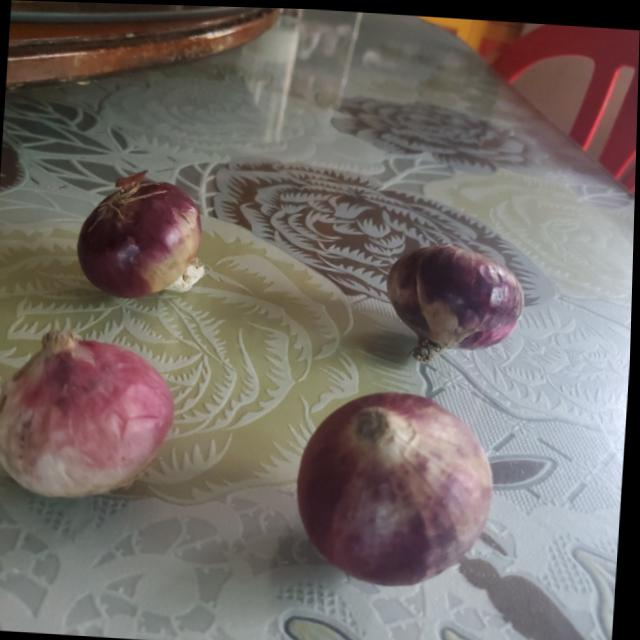onion: (297, 382, 506, 585), (0, 336, 176, 504), (381, 234, 532, 373), (74, 173, 205, 302)
